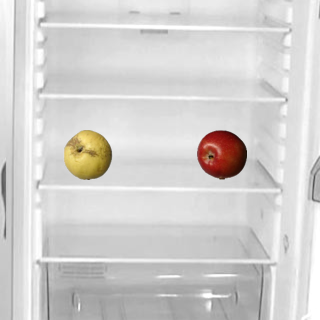Apple Braeburn: (196, 129, 246, 179)
Apple Golden 1: (62, 129, 112, 179)
